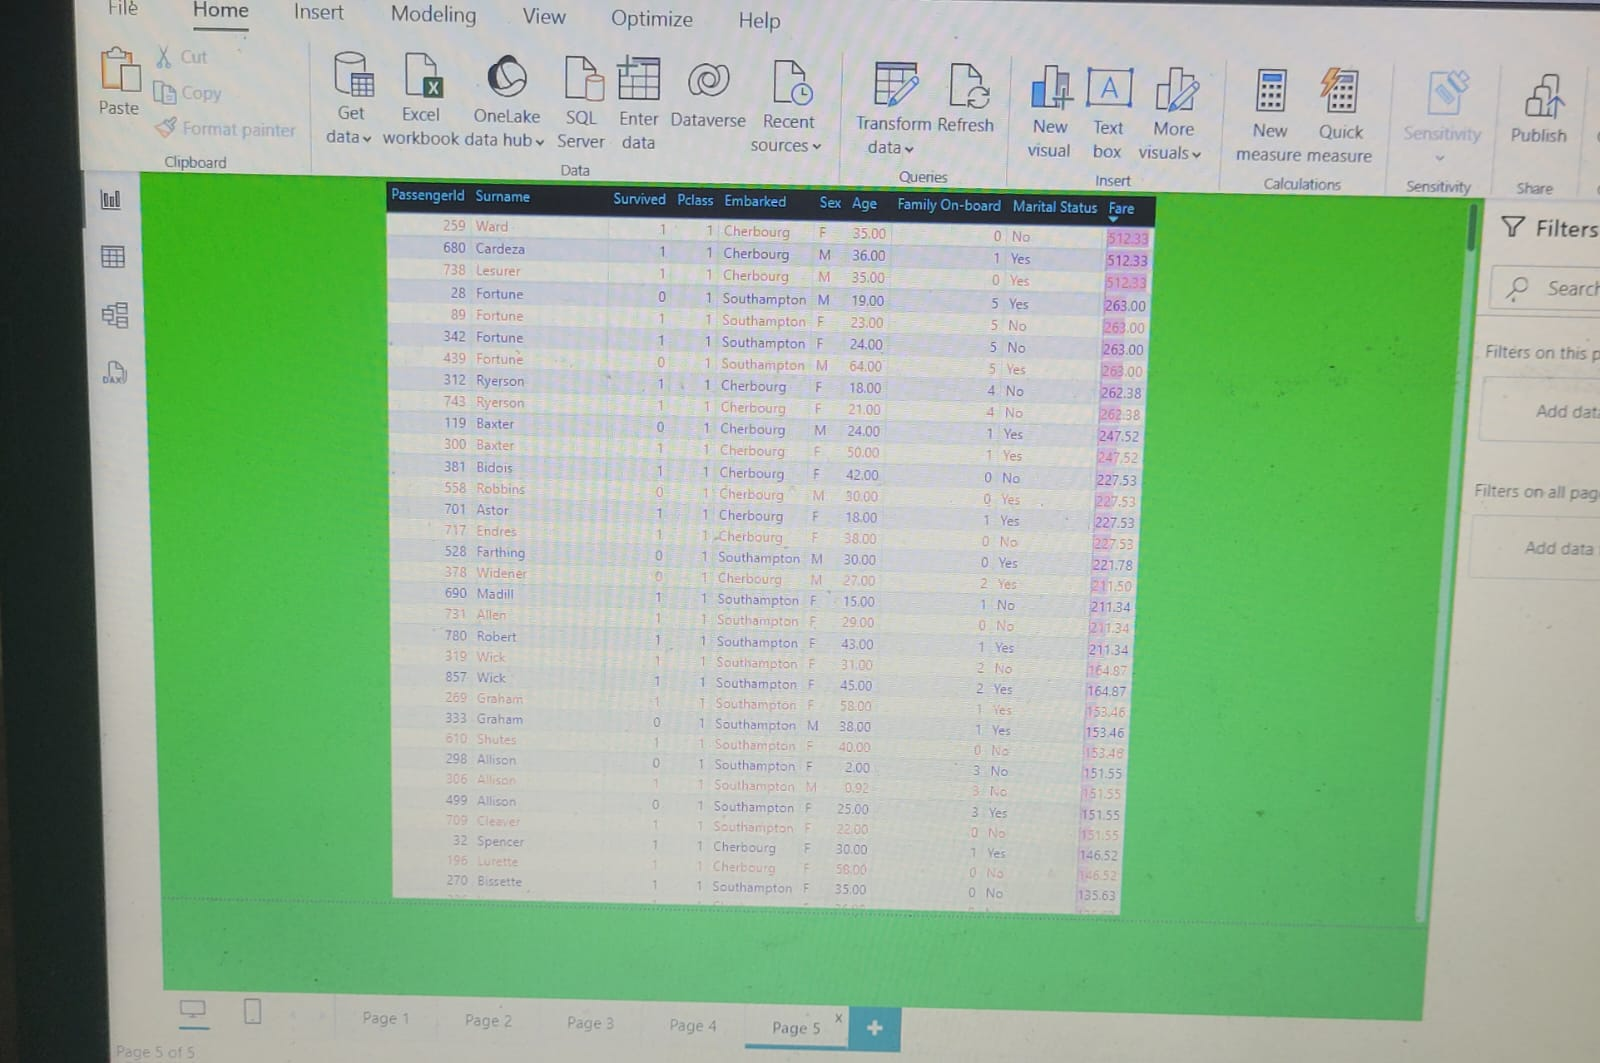

What the dashboard file says about the page in this screenshot:
{"tool":"powerbi","page":{"name":"Page 5","canvas":[1280,720],"ordinal":4},"visuals":[{"type":"tableEx","fields":{"Values":["train.PassengerId","train.Surname","train.Survived","train.Pclass","train.Embarked","train.Sex","train.Age","train.Family On-board","train.Marital Status","train.Fare"]},"box":[229.2,0,1051.1,720.4],"z":0}]}

Visuals, with their boxes on the page's 1280x720 design canvas (x1, y1, x2, y2). These are canvas units, not pixel positions in the 1600x1063 screenshot, which may show the page scaled, cropped or inside an application window:
tableEx - train.PassengerId x train.Surname: rect(229, 0, 1280, 720)
